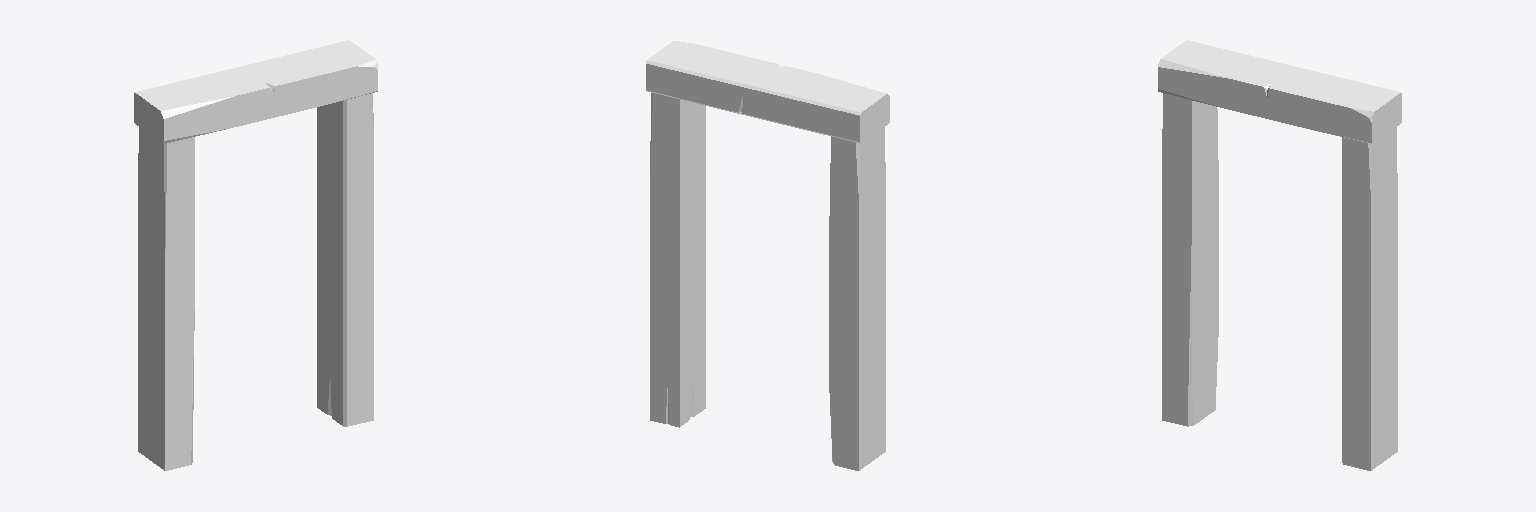
Rendered from doorFrame.obj.
3 views of the same model, side by side, from view 1: azimuth 30°, elevation 25°; view 2: azimuth 150°, elevation 25°; view 3: azimuth 330°, elevation 25° (orthographic).
Parts seen in each view (by area): view 1: doorFrame; view 2: doorFrame; view 3: doorFrame.
Part boxes in pixels (bbox=[...]): doorFrame: bbox=[134, 40, 377, 470]; doorFrame: bbox=[646, 41, 889, 470]; doorFrame: bbox=[1158, 40, 1401, 470].
Size of the model in its own units: 1.44 by 2.3 by 0.35.